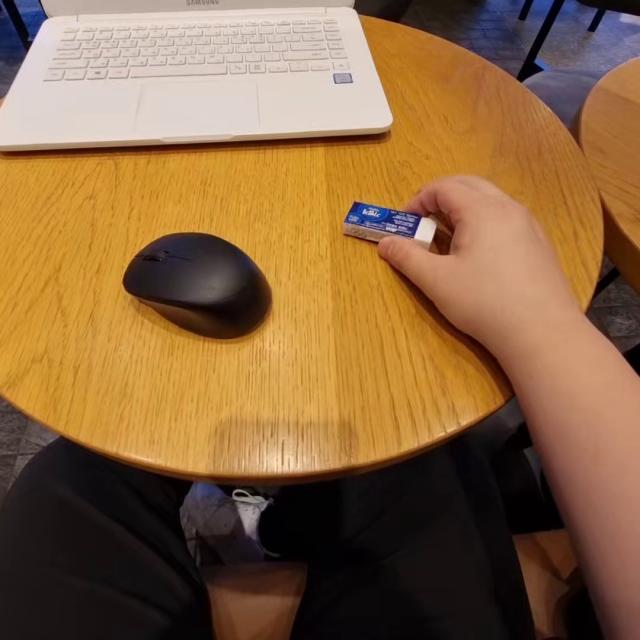mouse: (337, 184, 579, 378), (121, 228, 288, 346)
